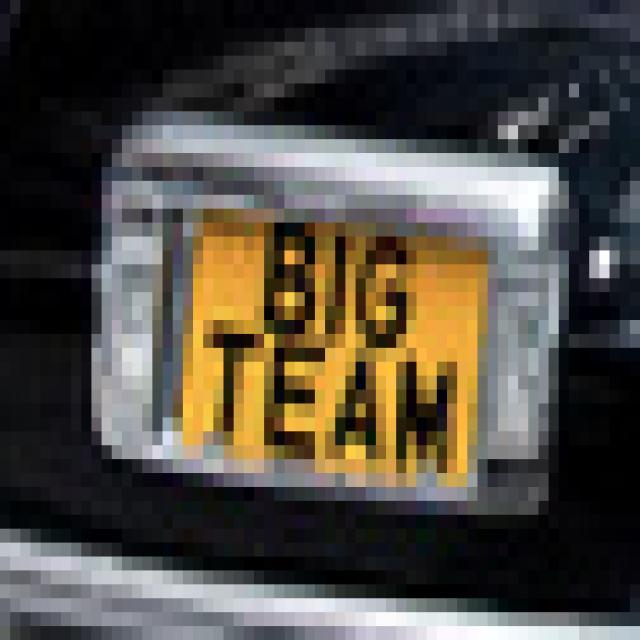A: (327, 324, 382, 474)
B: (256, 198, 320, 338), (325, 202, 352, 346)
E: (262, 320, 326, 462)
G: (356, 212, 419, 356)
M: (385, 332, 465, 486)
T: (196, 314, 264, 462)
